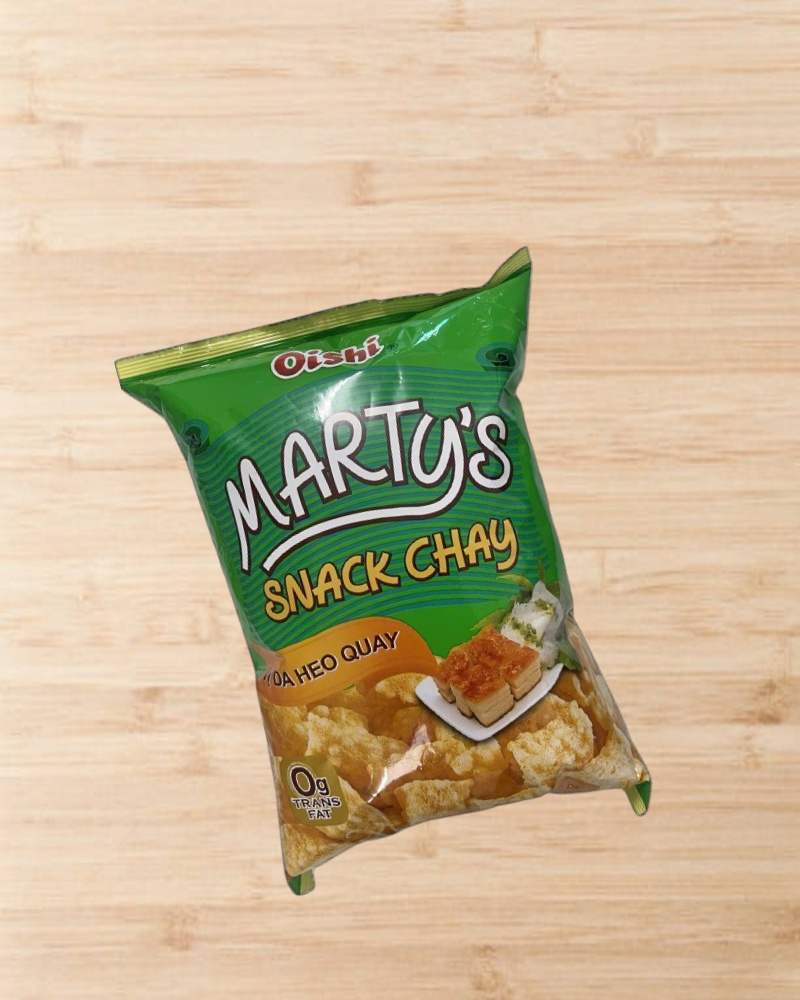Snack chay: (114, 246, 678, 917)
